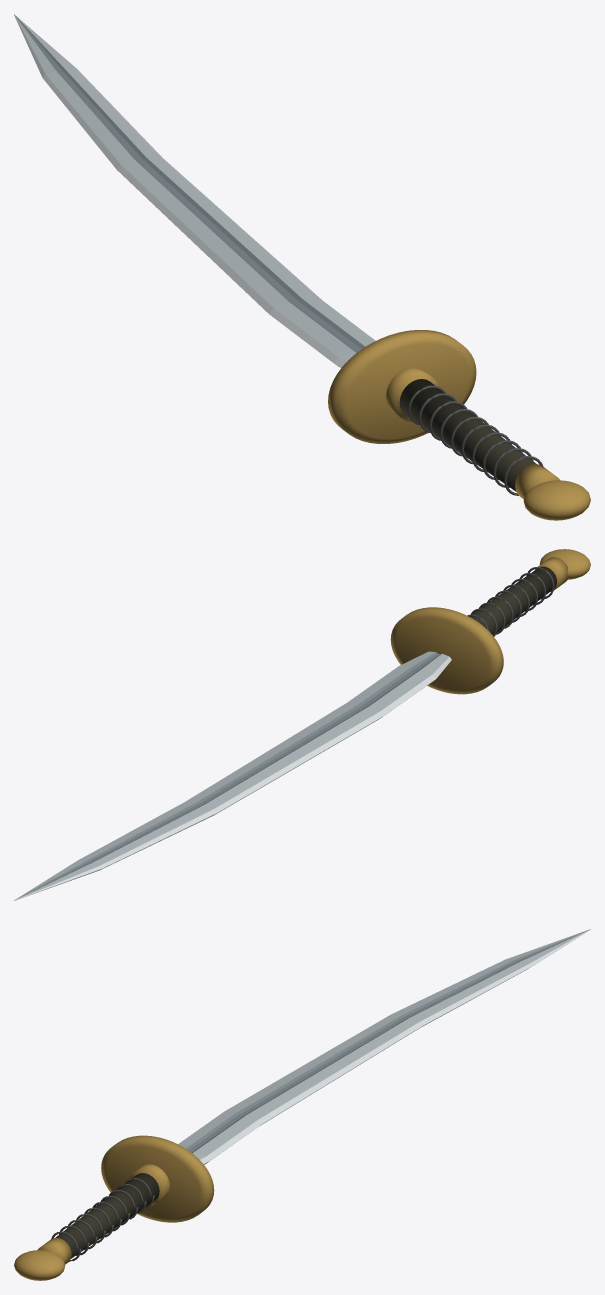
Rendered from frontier.glb.
3 views of the same model, one above another, from view 1: azimuth 30°, elevation 25°; view 2: azimuth 150°, elevation 25°; view 3: azimuth 330°, elevation 25° (orthographic). The views are drawn at different scales.
Parts seen in each view (by area): view 1: Forged_frontier; view 2: Forged_frontier; view 3: Forged_frontier.
Part boxes in pixels (bbox=[...]): Forged_frontier: bbox=[14, 14, 590, 520]; Forged_frontier: bbox=[14, 549, 590, 900]; Forged_frontier: bbox=[14, 929, 590, 1280].
Bounding box in the file's own units: 0.1964 × 0.1204 × 1.37.
